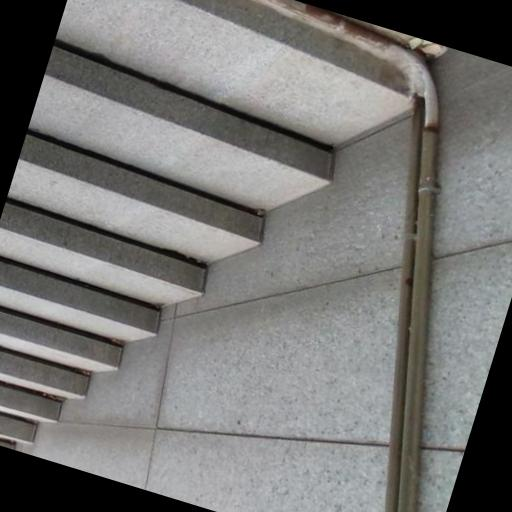stairs: (0, 0, 407, 448)
